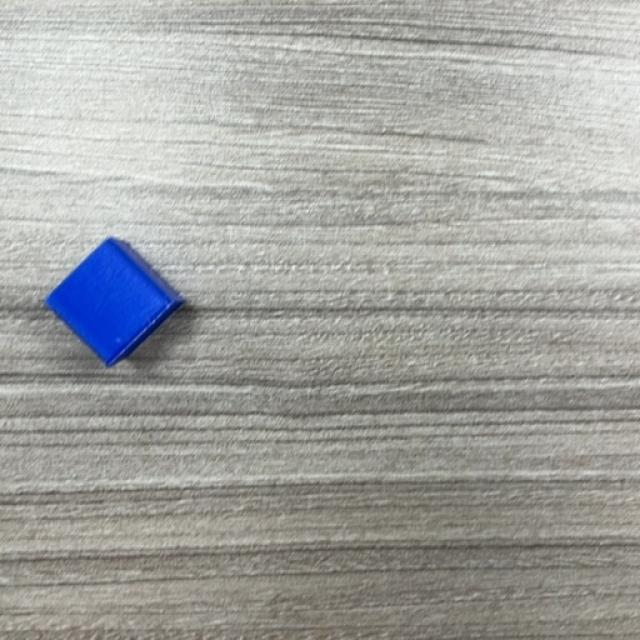Azul: (44, 238, 186, 369)
